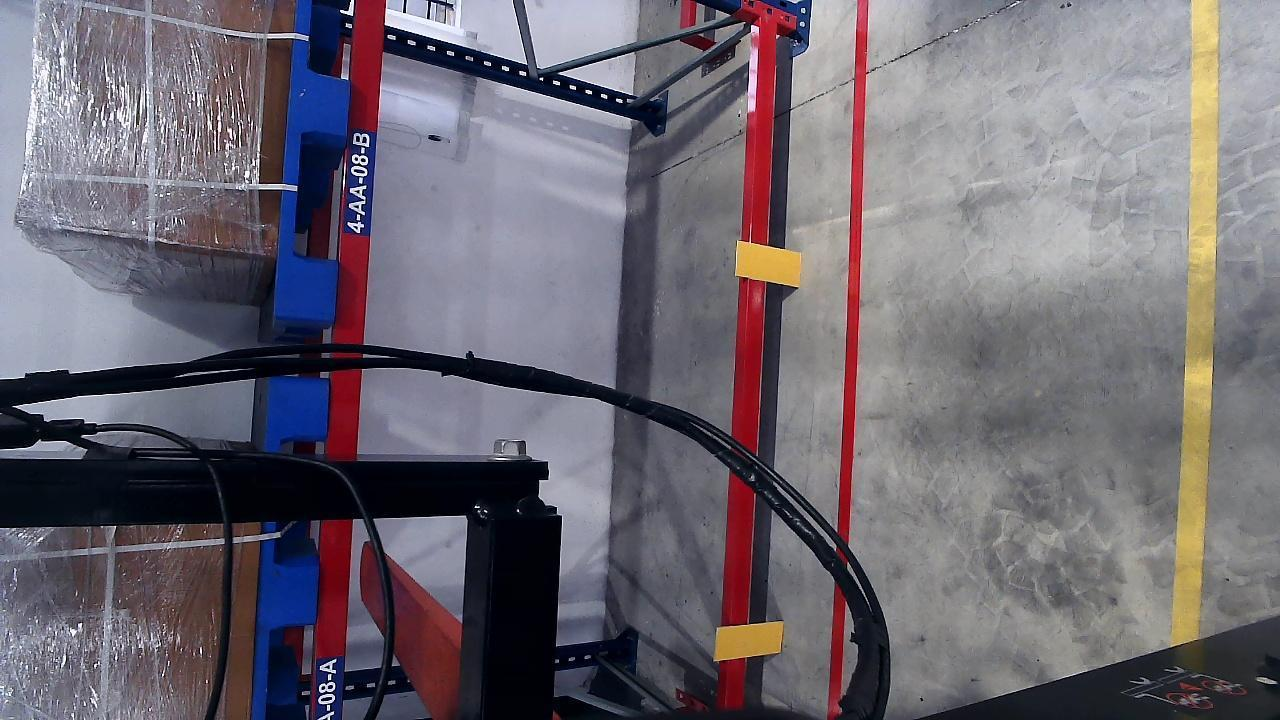red_line: (828, 9, 867, 719)
yellow_line: (1175, 0, 1220, 640)
